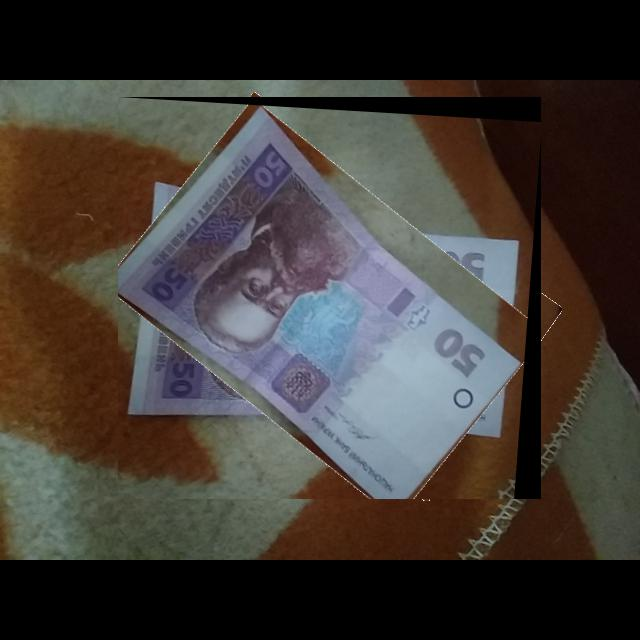50uah: (118, 104, 528, 500)
